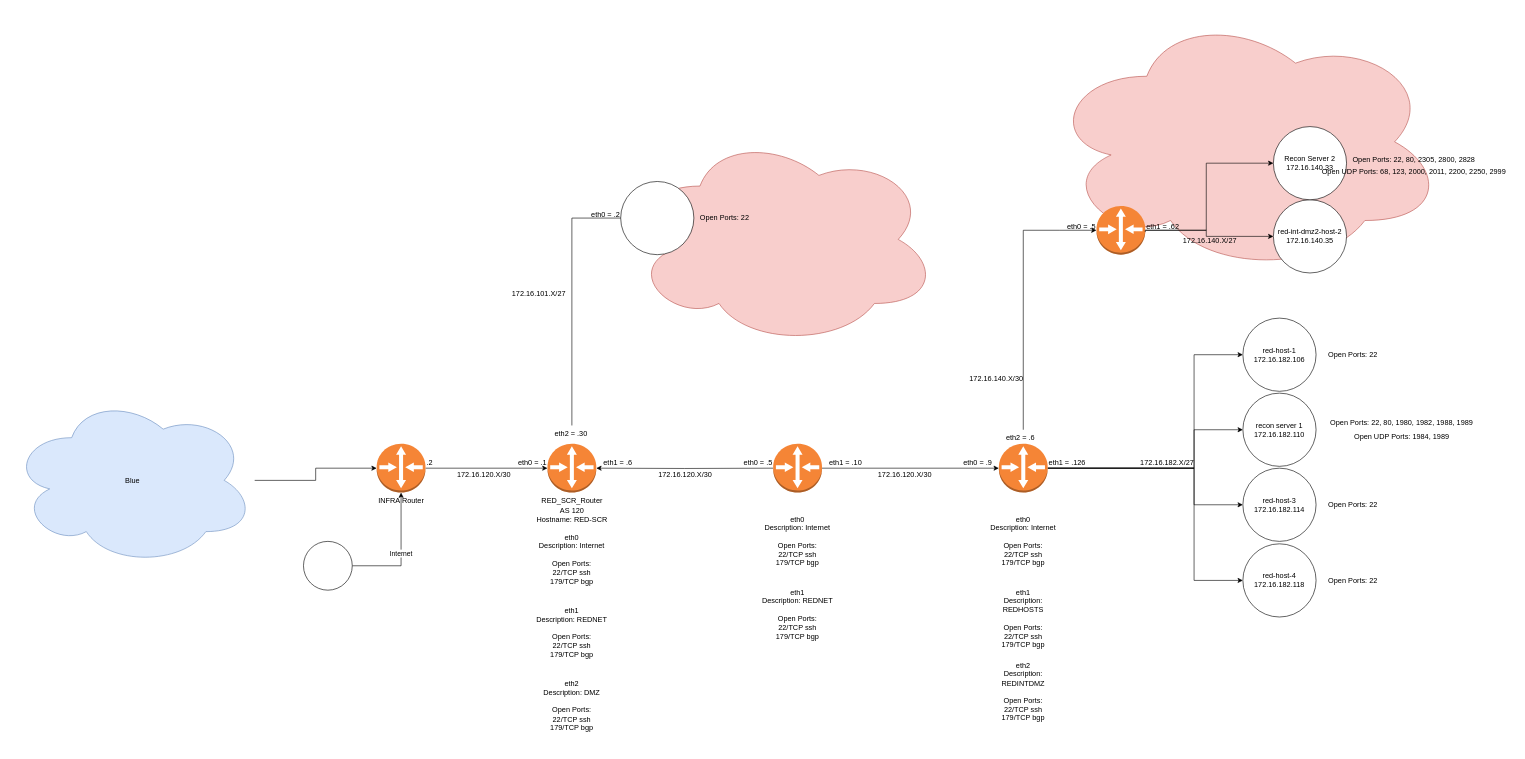
Some shapes in this 1525 by 759 pixel diagram are drawn without their labels. The box of each missing label's shape, as (x1, y1, x2, y2) in pixels:
Internet Host 10.10.0.40: (303, 541, 352, 590)
red-dmz-host-1 172.16.101.2: (620, 181, 694, 255)
RED-IPS Router: (773, 443, 822, 493)
RED-POP Router: (998, 443, 1048, 493)
RED-POP2 Router: (1096, 205, 1145, 255)
